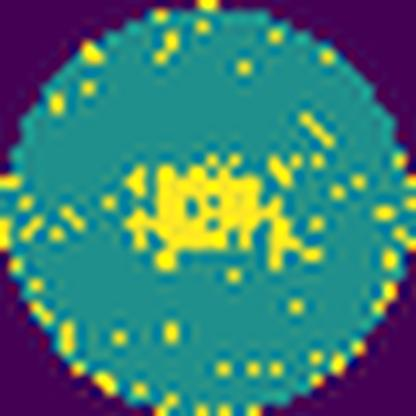Center: (129, 160, 319, 272)
